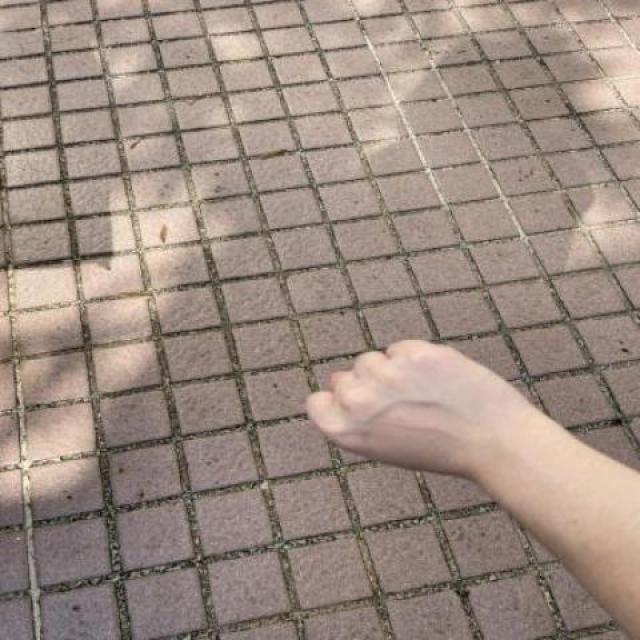fist: (295, 325, 518, 499)
